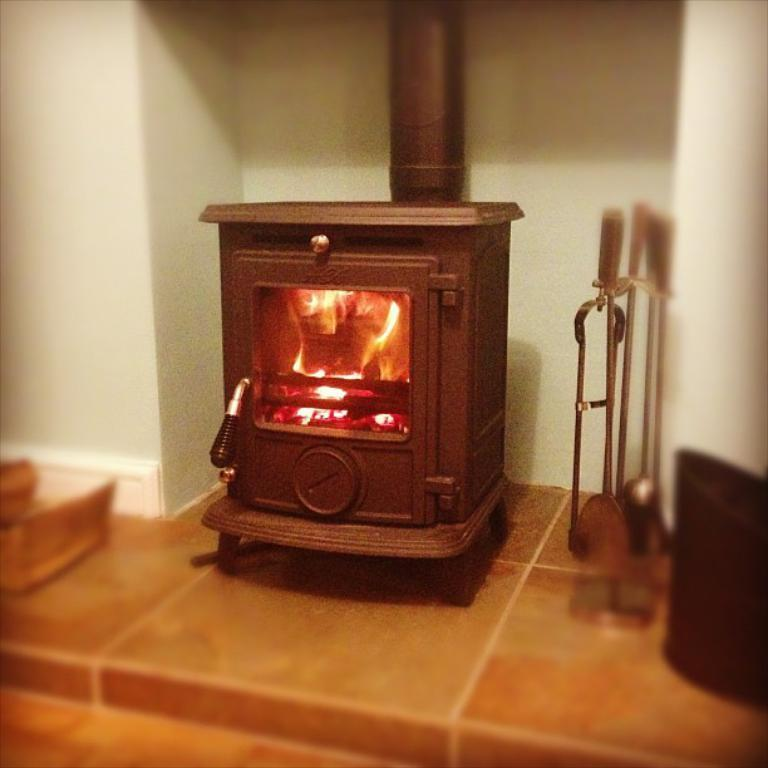Fire: (260, 284, 423, 423)
